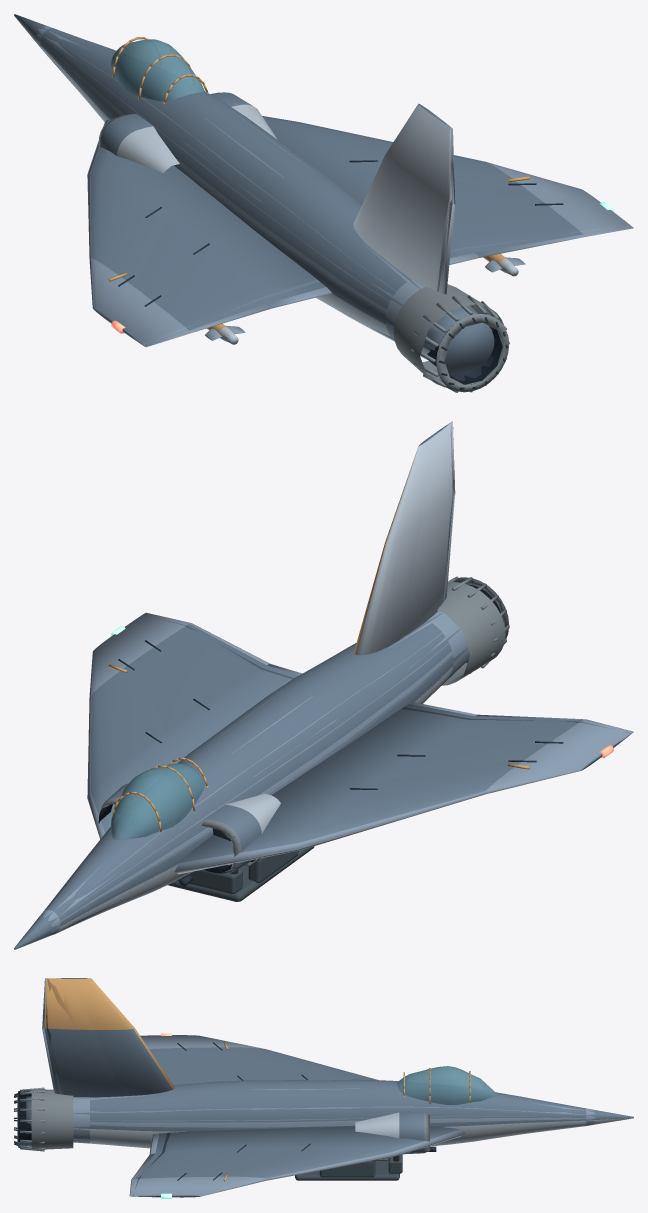
File: mirage.glb
3 views of the same model, one above another, from view 1: azimuth 30°, elevation 25°; view 2: azimuth 150°, elevation 25°; view 3: azimuth 270°, elevation 25° (orthographic). The views are drawn at different scales.
Visible parts, largest first — view 1: Airframe shell mesh, Airframe shell.001 mesh, Airframe shell.002 mesh, Canopy glass, Canopy glass.001, Canopy glass.002, Hinged Aileron.001, Hinged Aileron; view 2: Airframe shell mesh, Airframe shell.001 mesh, Airframe shell.002 mesh, Canopy glass, Canopy glass.001, Cockpit shell mesh, Canopy glass.002; view 3: Airframe shell mesh, Airframe shell.001 mesh, Airframe shell.002 mesh, Canopy glass, Canopy glass.001, Cockpit shell mesh, Canopy glass.002.
Boxes of the visible parts, left/top/right/bottom form: Airframe shell mesh: left=36, top=26, right=613, bottom=392; Airframe shell.001 mesh: left=14, top=14, right=632, bottom=390; Airframe shell.002 mesh: left=14, top=14, right=630, bottom=391; Canopy glass: left=111, top=39, right=204, bottom=101; Canopy glass.001: left=111, top=39, right=204, bottom=100; Canopy glass.002: left=111, top=42, right=201, bottom=96; Hinged Aileron.001: left=475, top=227, right=633, bottom=257; Hinged Aileron: left=133, top=303, right=270, bottom=346; Airframe shell mesh: left=14, top=428, right=613, bottom=949; Airframe shell.001 mesh: left=15, top=423, right=631, bottom=949; Airframe shell.002 mesh: left=15, top=424, right=630, bottom=949; Canopy glass: left=111, top=763, right=204, bottom=838; Canopy glass.001: left=111, top=763, right=204, bottom=837; Cockpit shell mesh: left=167, top=808, right=314, bottom=901; Canopy glass.002: left=111, top=764, right=200, bottom=840; Airframe shell mesh: left=14, top=978, right=633, bottom=1198; Airframe shell.001 mesh: left=18, top=978, right=593, bottom=1197; Airframe shell.002 mesh: left=17, top=978, right=633, bottom=1195; Canopy glass: left=397, top=1066, right=494, bottom=1104; Canopy glass.001: left=397, top=1066, right=491, bottom=1104; Cockpit shell mesh: left=295, top=1111, right=409, bottom=1180; Canopy glass.002: left=397, top=1066, right=497, bottom=1098.
Bounding box in the file's own units: 9.26 × 4.98 × 14.94.
